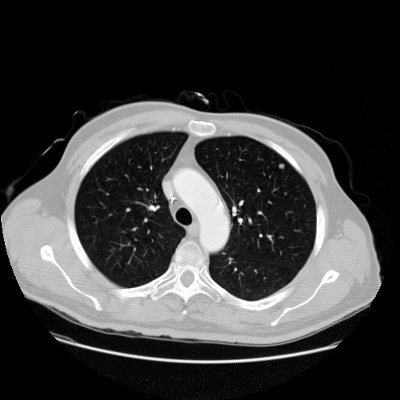nodule: (278, 163, 284, 169)
